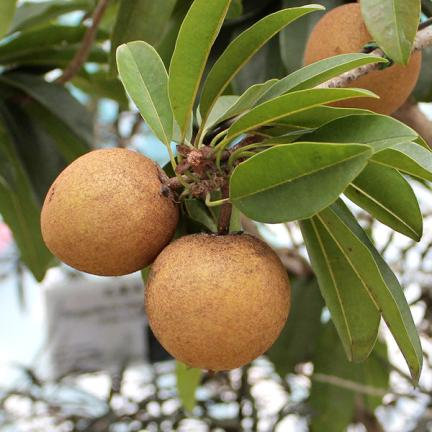kiwi: (145, 234, 290, 370), (41, 149, 178, 275), (333, 52, 421, 114)
